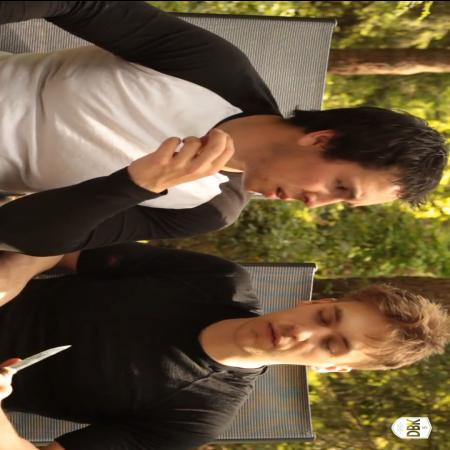long weapon: (0, 342, 82, 391)
